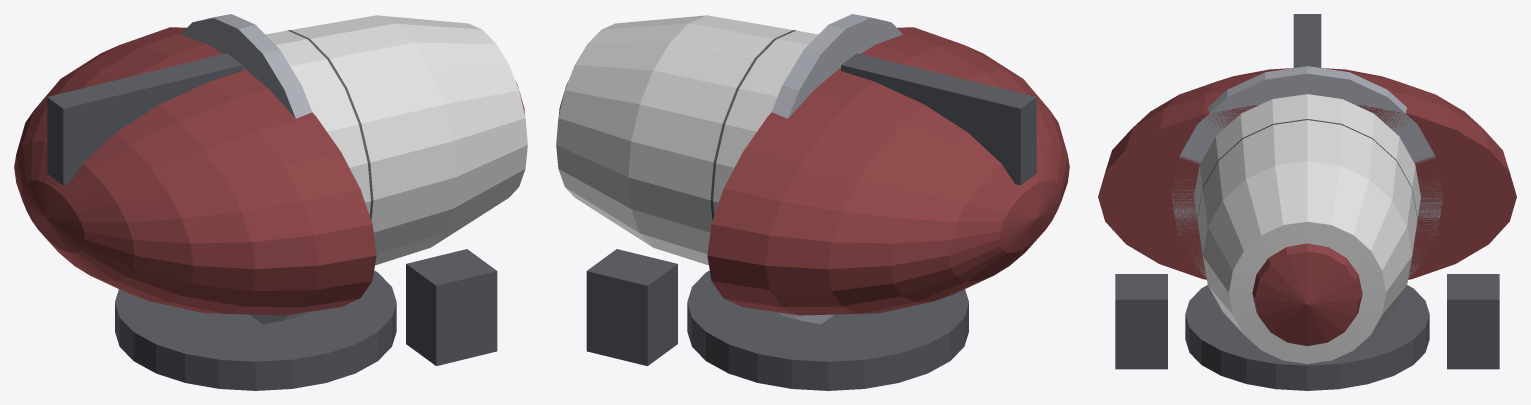
The model's file is vge_gun_anticraft_caster.obj.
3 views of the same model, side by side, from view 1: azimuth 30°, elevation 25°; view 2: azimuth 150°, elevation 25°; view 3: azimuth 270°, elevation 25° (orthographic). The views are drawn at different scales.
Visible parts, largest first — view 1: vge_gun_anticraft_caster_1, vge_gun_anticraft_caster_4, vge_gun_anticraft_caster_0, vge_gun_anticraft_caster_2, vge_gun_anticraft_caster_9, vge_gun_anticraft_caster_3, vge_gun_anticraft_caster_5; view 2: vge_gun_anticraft_caster_1, vge_gun_anticraft_caster_4, vge_gun_anticraft_caster_0, vge_gun_anticraft_caster_2, vge_gun_anticraft_caster_10, vge_gun_anticraft_caster_3, vge_gun_anticraft_caster_5; view 3: vge_gun_anticraft_caster_4, vge_gun_anticraft_caster_1, vge_gun_anticraft_caster_0, vge_gun_anticraft_caster_3, vge_gun_anticraft_caster_8, vge_gun_anticraft_caster_9, vge_gun_anticraft_caster_10, vge_gun_anticraft_caster_2, vge_gun_anticraft_caster_5.
Part boxes in pixels (bbox=[...]): vge_gun_anticraft_caster_1: bbox=[14, 27, 376, 315]; vge_gun_anticraft_caster_4: bbox=[265, 15, 527, 265]; vge_gun_anticraft_caster_0: bbox=[115, 270, 396, 390]; vge_gun_anticraft_caster_2: bbox=[47, 53, 242, 185]; vge_gun_anticraft_caster_9: bbox=[406, 249, 497, 365]; vge_gun_anticraft_caster_3: bbox=[181, 14, 311, 324]; vge_gun_anticraft_caster_5: bbox=[287, 30, 373, 220]; vge_gun_anticraft_caster_1: bbox=[707, 27, 1069, 315]; vge_gun_anticraft_caster_4: bbox=[556, 15, 818, 265]; vge_gun_anticraft_caster_0: bbox=[687, 270, 968, 390]; vge_gun_anticraft_caster_2: bbox=[841, 53, 1036, 185]; vge_gun_anticraft_caster_10: bbox=[586, 249, 677, 365]; vge_gun_anticraft_caster_3: bbox=[772, 14, 902, 324]; vge_gun_anticraft_caster_5: bbox=[710, 30, 796, 220]; vge_gun_anticraft_caster_4: bbox=[1194, 94, 1420, 363]; vge_gun_anticraft_caster_1: bbox=[1098, 68, 1516, 279]; vge_gun_anticraft_caster_0: bbox=[1185, 285, 1429, 390]; vge_gun_anticraft_caster_3: bbox=[1171, 66, 1443, 277]; vge_gun_anticraft_caster_8: bbox=[1252, 243, 1362, 346]; vge_gun_anticraft_caster_9: bbox=[1115, 274, 1167, 369]; vge_gun_anticraft_caster_10: bbox=[1447, 274, 1499, 369]; vge_gun_anticraft_caster_2: bbox=[1293, 14, 1321, 67]; vge_gun_anticraft_caster_5: bbox=[1197, 119, 1417, 220].
Size of the model in its own units: 2.66 by 1.68 by 2.4.
